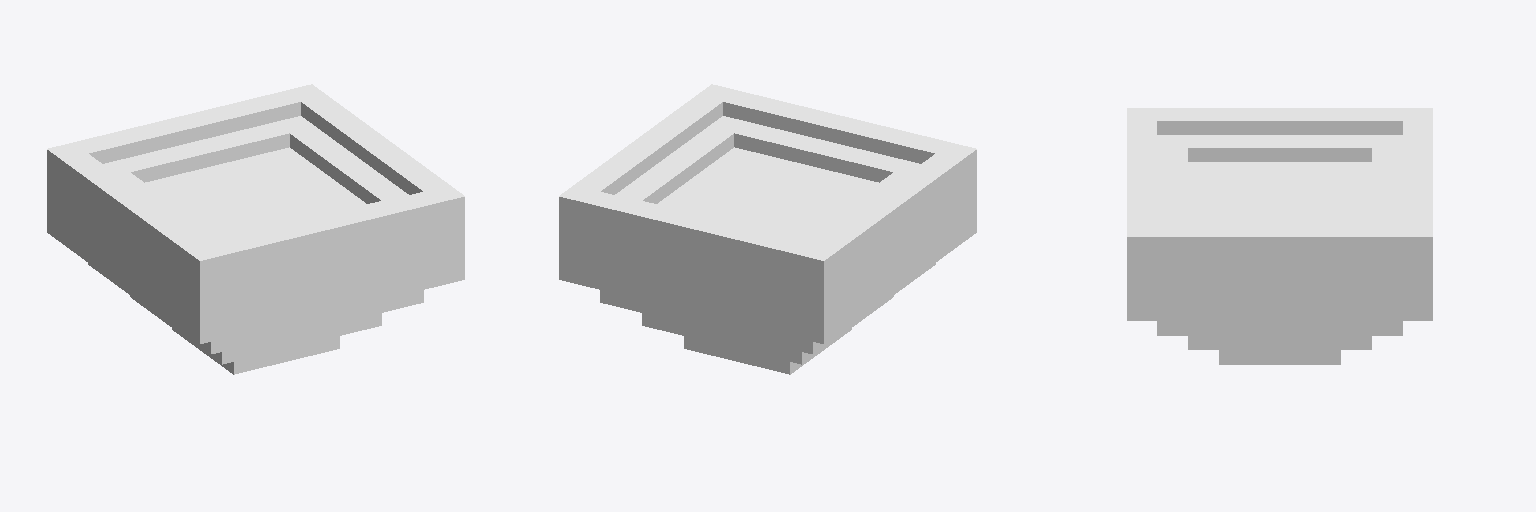
File: HealingLight.obj
3 renders of one model, left to right at view 1: azimuth 30°, elevation 25°; view 2: azimuth 150°, elevation 25°; view 3: azimuth 270°, elevation 25°, orthographic.
Bounding box in the file's own units: 20 × 12 × 20.